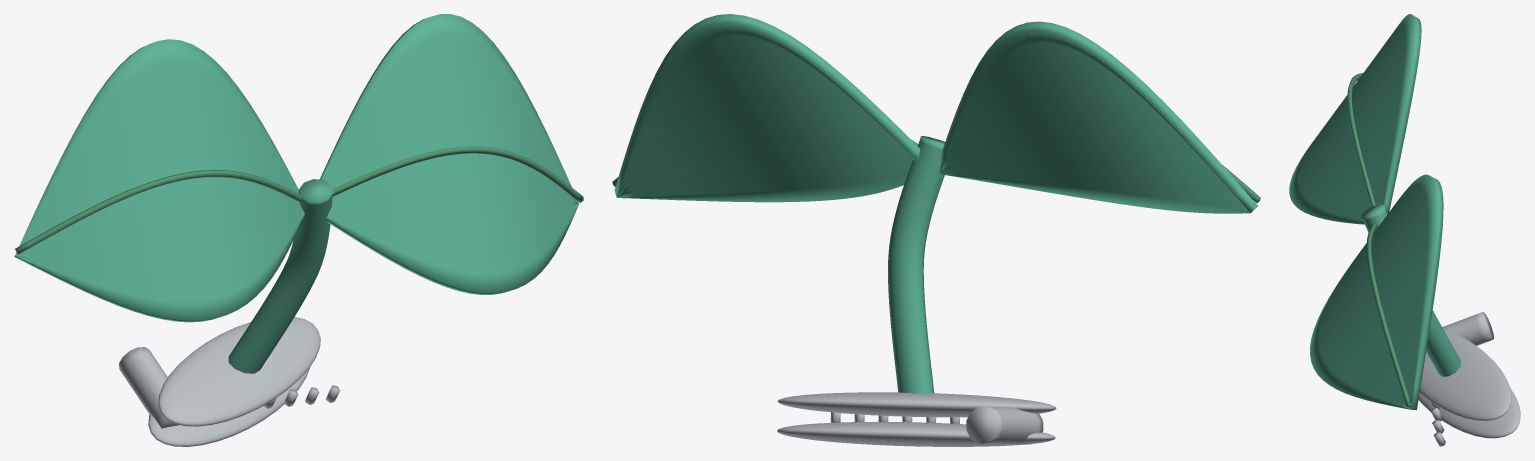
The model's file is Masculine-curly-top-headband257-sprout.glb.
3 views of the same model, side by side, from view 1: azimuth 30°, elevation 25°; view 2: azimuth 150°, elevation 25°; view 3: azimuth 270°, elevation 25° (orthographic). The views are drawn at different scales.
Visible parts, largest first — view 1: 226 extra / Accessory / mint226, 226 extra / Sprout / clip silver235, 226 extra / Sprout / leaf vein235; view 2: 226 extra / Accessory / mint226, 226 extra / Sprout / clip silver235; view 3: 226 extra / Accessory / mint226, 226 extra / Sprout / clip silver235, 226 extra / Sprout / leaf vein235.
Part boxes in pixels (x1,y1,x2,y2): 226 extra / Accessory / mint226: [14, 14, 578, 373]; 226 extra / Sprout / clip silver235: [119, 317, 340, 446]; 226 extra / Sprout / leaf vein235: [15, 146, 583, 254]; 226 extra / Accessory / mint226: [614, 14, 1257, 393]; 226 extra / Sprout / clip silver235: [777, 392, 1056, 446]; 226 extra / Accessory / mint226: [1289, 14, 1461, 410]; 226 extra / Sprout / clip silver235: [1418, 311, 1520, 446]; 226 extra / Sprout / leaf vein235: [1347, 73, 1411, 407].
Bounding box in the file's own units: 0.2667 × 0.18 × 0.1083.
